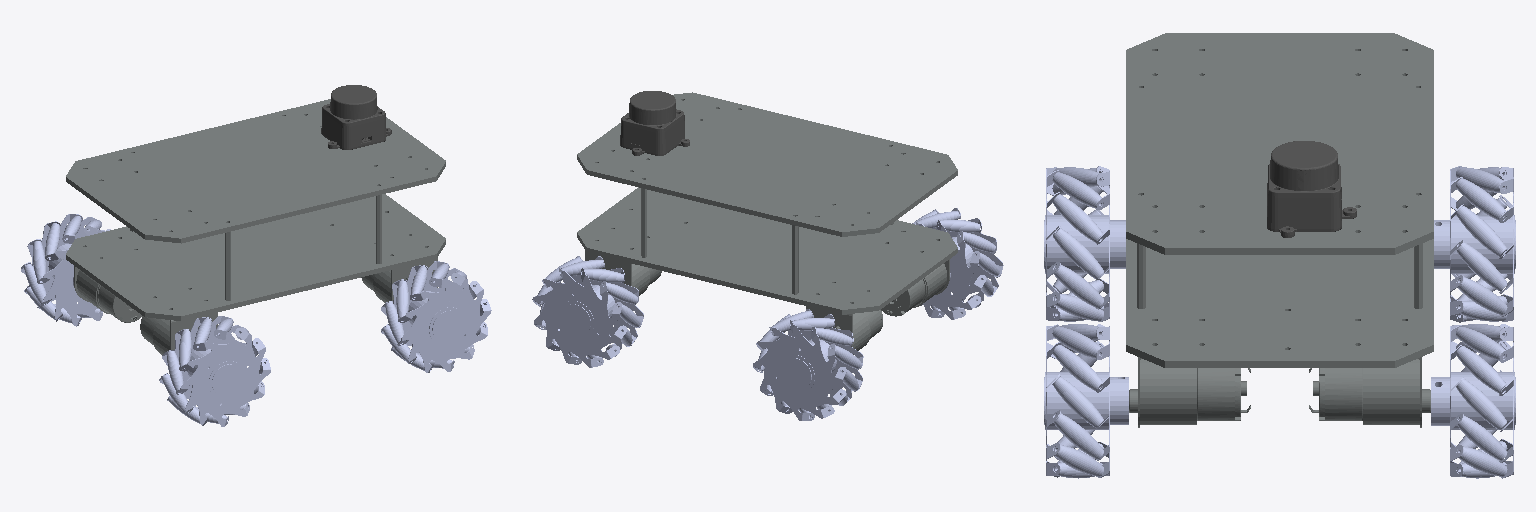
The robot description file, URDF, robot "car_description":
<?xml version="1.0" encoding="utf-8"?>
<!-- This URDF was automatically created by SolidWorks to URDF Exporter! Originally created by [author] ([email redacted]) 
     Commit Version: 1.6.0-4-g7f85cfe  Build Version: 1.6.7995.38578
     For more information, please see http://wiki.ros.org/sw_urdf_exporter -->
<robot
  name="car_description">
  <link
    name="base_link">
    <inertial>
      <origin
        xyz="1.49546599808194E-05 6.53041920528196E-07 0.00923405748474239"
        rpy="0 0 0" />
      <mass
        value="0.541057398595435" />
      <inertia
        ixx="0.000703883239347138"
        ixy="4.28613861538208E-08"
        ixz="6.41629515118229E-20"
        iyy="0.00179839636966196"
        iyz="5.78825965272274E-21"
        izz="0.00243845296176915" />
    </inertial>
    <visual>
      <origin
        xyz="0 0 0"
        rpy="0 0 0" />
      <geometry>
        <mesh
          filename="package://car_description/meshes/base_link.STL" />
      </geometry>
      <material
        name="">
        <color
          rgba="0.529411764705882 0.549019607843137 0.549019607843137 1" />
      </material>
    </visual>
    <collision>
      <origin
        xyz="0 0 0"
        rpy="0 0 0" />
      <geometry>
        <mesh
          filename="package://car_description/meshes/base_link.STL" />
      </geometry>
    </collision>
  </link>

  <link name="base_footprint">
    <visual>
      <origin xyz="0 0 0" rpy="0 0 0" />
      <geometry>
        <box size="0.001 0.001 0.001" />
      </geometry>
    </visual>
    </link>
    
    <joint name="base_footprint_joint" type="fixed">
      <origin xyz="0 0 0.033" rpy="0 0 0" />        
      <parent link="base_footprint"/>
      <child link="base_link" />
    </joint> 


  <link
    name="base_laser">
    <inertial>
      <origin
        xyz="7.53818866835315E-05 -6.19302307064765E-06 -0.0228138410573556"
        rpy="0 0 0" />
      <mass
        value="0.0142329731202252" />
      <inertia
        ixx="3.74310448659222E-06"
        ixy="-3.55312206005839E-09"
        ixz="6.16692587832043E-09"
        iyy="3.80190289052507E-06"
        iyz="6.5462824593541E-09"
        izz="4.31160147704899E-06" />
    </inertial>
    <visual>
      <origin
        xyz="0 0 0"
        rpy="0 0 0" />
      <geometry>
        <mesh
          filename="package://car_description/meshes/laser_link.STL" />
      </geometry>
      <material
        name="">
        <color
          rgba="0.376470588235294 0.376470588235294 0.376470588235294 1" />
      </material>
    </visual>
    <collision>
      <origin
        xyz="0 0 0"
        rpy="0 0 0" />
      <geometry>
        <mesh
          filename="package://car_description/meshes/laser_link.STL" />
      </geometry>
    </collision>
  </link>
  <joint
    name="laser_joint"
    type="fixed">
    <origin
      xyz="0.0915925755107664 0.0125184118296686 0.098999997"
      rpy="0 0 0" />
    <parent
      link="base_link" />
    <child
      link="base_laser" />
    <axis
      xyz="0 0 0" />
  </joint>
  <link
    name="left_front_wheel">
    <inertial>
      <origin
        xyz="-6.93888494263106E-06 -0.00197435375568079 -1.20088822749415E-05"
        rpy="0 0 0" />
      <mass
        value="0.0516332847904309" />
      <inertia
        ixx="7.85342023939647E-06"
        ixy="-6.84379897137664E-09"
        ixz="2.67083157427636E-09"
        iyy="6.50416863384116E-06"
        iyz="-1.64049058359239E-08"
        izz="7.85920229071721E-06" />
    </inertial>
    <visual>
      <origin
        xyz="0 0 0"
        rpy="0 0 0" />
      <geometry>
        <mesh
          filename="package://car_description/meshes/left_front_wheel.STL" />
      </geometry>
      <material
        name="">
        <color
          rgba="0.792156862745098 0.819607843137255 0.933333333333333 1" />
      </material>
    </visual>
    <collision>
      <origin
        xyz="0 0 0"
        rpy="0 0 0" />
      <geometry>
        <mesh
          filename="package://car_description/meshes/left_front_wheel.STL" />
      </geometry>
    </collision>
  </link>
  <joint
    name="left_front_wheel_joint"
    type="continuous">
    <origin
      xyz="0.0950367398801765 0.10385160436158 -0.0389999999999885"
      rpy="0 0 0" />
    <parent
      link="base_link" />
    <child
      link="left_front_wheel" />
    <axis
      xyz="0 1 0" />
  </joint>
  <link
    name="right_front_wheel">
    <inertial>
      <origin
        xyz="3.88909132915949E-06 0.00197435375568088 -1.33130141739546E-05"
        rpy="0 0 0" />
      <mass
        value="0.0516332847904308" />
      <inertia
        ixx="7.8525141702549E-06"
        ixy="-2.75294303252933E-09"
        ixz="-1.03607033193475E-09"
        iyy="6.50416863384102E-06"
        iyz="1.7560746695619E-08"
        izz="7.86010835985855E-06" />
    </inertial>
    <visual>
      <origin
        xyz="0 0 0"
        rpy="0 0 0" />
      <geometry>
        <mesh
          filename="package://car_description/meshes/right_front_wheel.STL" />
      </geometry>
      <material
        name="">
        <color
          rgba="0.792156862745098 0.819607843137255 0.933333333333333 1" />
      </material>
    </visual>
    <collision>
      <origin
        xyz="0 0 0"
        rpy="0 0 0" />
      <geometry>
        <mesh
          filename="package://car_description/meshes/right_front_wheel.STL" />
      </geometry>
    </collision>
  </link>
  <joint
    name="right_front_wheel_joint"
    type="continuous">
    <origin
      xyz="0.0950367398801983 -0.103848395638419 -0.0389999999999946"
      rpy="0 0 0" />
    <parent
      link="base_link" />
    <child
      link="right_front_wheel" />
    <axis
      xyz="0 -1 0" />
  </joint>
  <link
    name="right_back_wheel">
    <inertial>
      <origin
        xyz="1.29906719835982E-05 0.00197435375567914 -4.85837617833496E-06"
        rpy="0 0 0" />
      <mass
        value="0.0516332847904309" />
      <inertia
        ixx="7.85837845353258E-06"
        ixy="-1.57120008491125E-08"
        ixz="-3.3493435885639E-09"
        iyy="6.50416863384165E-06"
        iyz="8.31213264825022E-09"
        izz="7.85424407658193E-06" />
    </inertial>
    <visual>
      <origin
        xyz="0 0 0"
        rpy="0 0 0" />
      <geometry>
        <mesh
          filename="package://car_description/meshes/right_back_wheel.STL" />
      </geometry>
      <material
        name="">
        <color
          rgba="0.792156862745098 0.819607843137255 0.933333333333333 1" />
      </material>
    </visual>
    <collision>
      <origin
        xyz="0 0 0"
        rpy="0 0 0" />
      <geometry>
        <mesh
          filename="package://car_description/meshes/right_back_wheel.STL" />
      </geometry>
    </collision>
  </link>
  <joint
    name="right_back_wheel_joint"
    type="continuous">
    <origin
      xyz="-0.0949632601198017 -0.10384839563842 -0.0389999999999969"
      rpy="0 0 0" />
    <parent
      link="base_link" />
    <child
      link="right_back_wheel" />
    <axis
      xyz="0 -1 0" />
  </joint>
  <link
    name="left_back_wheel">
    <inertial>
      <origin
        xyz="-3.88909133712534E-06 -0.00197435375571686 -1.33130142260518E-05"
        rpy="0 0 0" />
      <mass
        value="0.0516332847904309" />
      <inertia
        ixx="7.8525141702553E-06"
        ixy="-2.75294303263294E-09"
        ixz="1.03607033189291E-09"
        iyy="6.50416863384148E-06"
        iyz="-1.75607466955359E-08"
        izz="7.86010835985893E-06" />
    </inertial>
    <visual>
      <origin
        xyz="0 0 0"
        rpy="0 0 0" />
      <geometry>
        <mesh
          filename="package://car_description/meshes/left_back_wheel.STL" />
      </geometry>
      <material
        name="">
        <color
          rgba="0.792156862745098 0.819607843137255 0.933333333333333 1" />
      </material>
    </visual>
    <collision>
      <origin
        xyz="0 0 0"
        rpy="0 0 0" />
      <geometry>
        <mesh
          filename="package://car_description/meshes/left_back_wheel.STL" />
      </geometry>
    </collision>
  </link>
  <joint
    name="left_back_wheel_joint"
    type="continuous">
    <origin
      xyz="-0.0949632601198084 0.103851604361618 -0.038999999999942"
      rpy="0 0 0" />
    <parent
      link="base_link" />
    <child
      link="left_back_wheel" />
    <axis
      xyz="0 1 0" />
  </joint>
</robot>

--- Render facts (derived) ---
Views: 3 orthographic renders of the robot side by side, from view 1: azimuth 30°, elevation 25°; view 2: azimuth 150°, elevation 25°; view 3: azimuth 270°, elevation 25°.
Robot: car_description — 7 links, 6 joints (4 continuous, 2 fixed); root link base_footprint; default pose: all joints at 0.
Visible links, largest first — view 1: base_link, right_front_wheel, right_back_wheel, left_back_wheel, base_laser; view 2: base_link, left_back_wheel, left_front_wheel, right_back_wheel, base_laser; view 3: base_link, left_back_wheel, right_back_wheel, left_front_wheel, right_front_wheel, base_laser.
Boxes of the visible links, bbox=[...] form: base_link: bbox=[66, 99, 445, 354]; right_front_wheel: bbox=[381, 261, 491, 372]; right_back_wheel: bbox=[159, 316, 270, 426]; left_back_wheel: bbox=[21, 214, 110, 326]; base_laser: bbox=[321, 85, 391, 149]; base_link: bbox=[577, 92, 957, 354]; left_back_wheel: bbox=[753, 309, 863, 420]; left_front_wheel: bbox=[532, 256, 643, 367]; right_back_wheel: bbox=[912, 208, 1003, 319]; base_laser: bbox=[620, 91, 689, 155]; base_link: bbox=[1126, 33, 1433, 427]; left_back_wheel: bbox=[1434, 166, 1515, 322]; right_back_wheel: bbox=[1044, 166, 1125, 321]; left_front_wheel: bbox=[1431, 324, 1515, 478]; right_front_wheel: bbox=[1044, 324, 1128, 478]; base_laser: bbox=[1267, 141, 1356, 237].
Size in the robot's own frame: 0.2702 by 0.2414 by 0.1781 metres.
6 mesh visuals loaded from 6 distinct referenced files (6 binary STL).